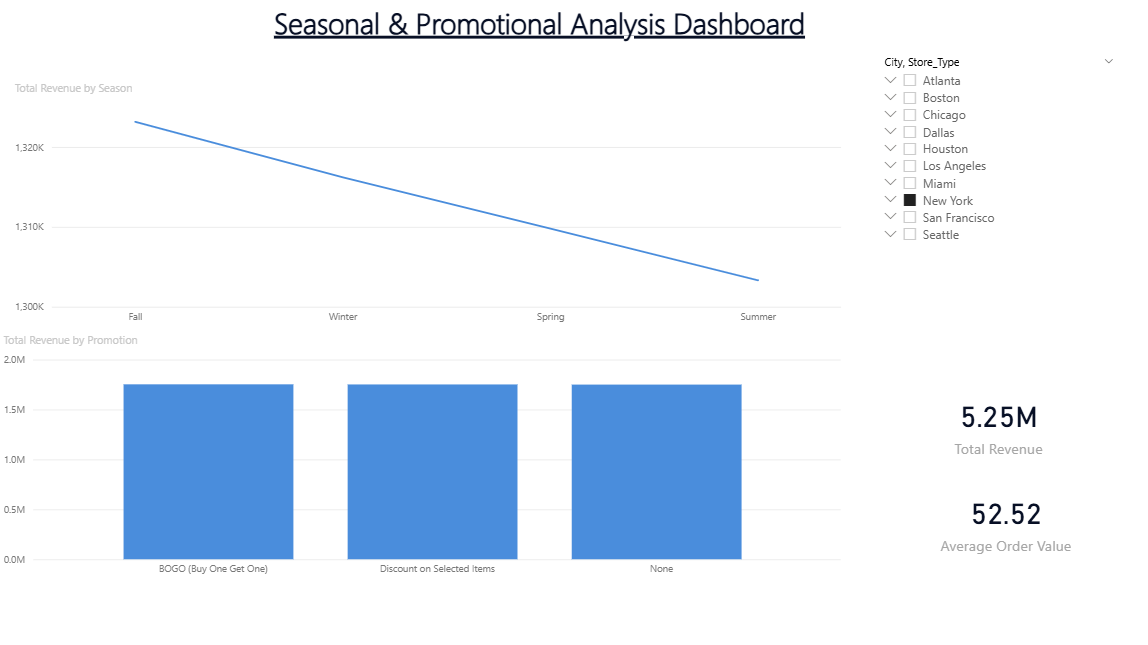

What the dashboard file says about the page in this screenshot:
{"tool":"powerbi","page":{"name":"Seasonal & Promotional Analysis Dashboard","canvas":[1280,720],"ordinal":2},"visuals":[{"type":"lineChart","fields":{"Category":["Retail_Transactions_Dataset.Season"],"Y":["Retail_Transactions_Dataset.Total Revenue"]},"box":[11.9,90.5,928.4,279.9],"z":0},{"type":"textbox","box":[291.8,0,696.3,56.3],"z":1000},{"type":"columnChart","fields":{"Category":["Retail_Transactions_Dataset.Promotion"],"Y":["Retail_Transactions_Dataset.Total Revenue"]},"box":[0,370.3,940.4,279.9],"z":2000},{"type":"slicer","fields":{"Values":["Retail_Transactions_Dataset.City","Retail_Transactions_Dataset.Store_Type"]},"box":[971.1,56.3,279.9,348.2],"z":3000},{"type":"card","fields":{"Values":["Retail_Transactions_Dataset.Total Revenue"]},"box":[970.9,418.2,280,108.8],"z":4000},{"type":"card","fields":{"Values":["Retail_Transactions_Dataset.Average Order Value"]},"box":[988,527,262.9,108.8],"z":5000}]}

Visuals, with their boxes in screenshot pixels (x1, y1, x2, y2), scaled from the page's 1280x720 canvas onto the 1148x645 screenshot:
lineChart - Retail_Transactions_Dataset.Season x Retail_Transactions_Dataset.Total Revenue: box(11, 81, 843, 332)
textbox: box(262, 0, 886, 50)
columnChart - Retail_Transactions_Dataset.Promotion x Retail_Transactions_Dataset.Total Revenue: box(0, 332, 843, 582)
slicer - Retail_Transactions_Dataset.City x Retail_Transactions_Dataset.Store_Type: box(871, 50, 1122, 362)
card - Retail_Transactions_Dataset.Total Revenue: box(871, 375, 1122, 472)
card - Retail_Transactions_Dataset.Average Order Value: box(886, 472, 1122, 570)
